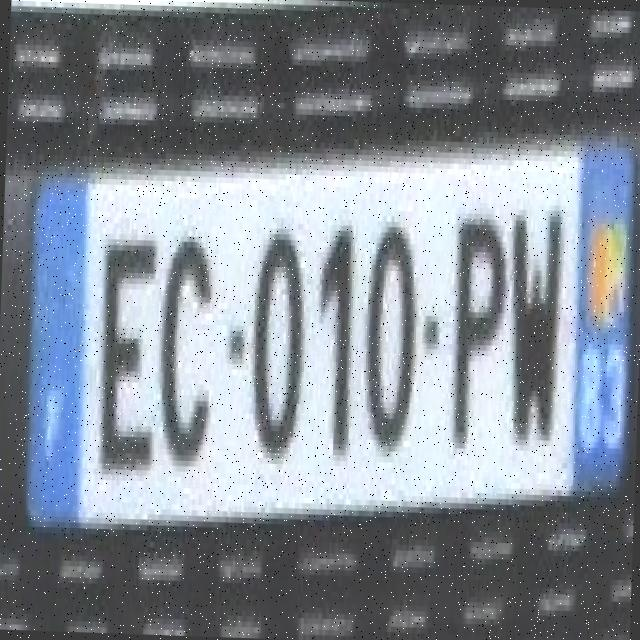Autre: (25, 139, 631, 517)
